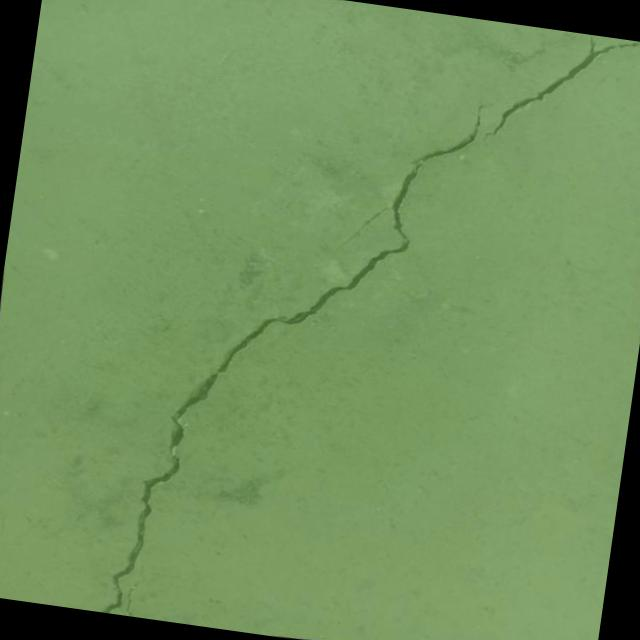crack: (72, 57, 505, 640), (477, 21, 640, 165), (122, 565, 149, 618)
